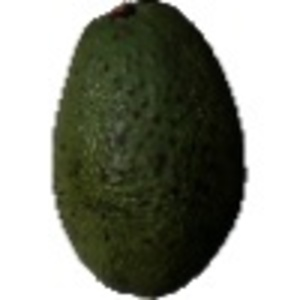abacate: (50, 1, 249, 296)
